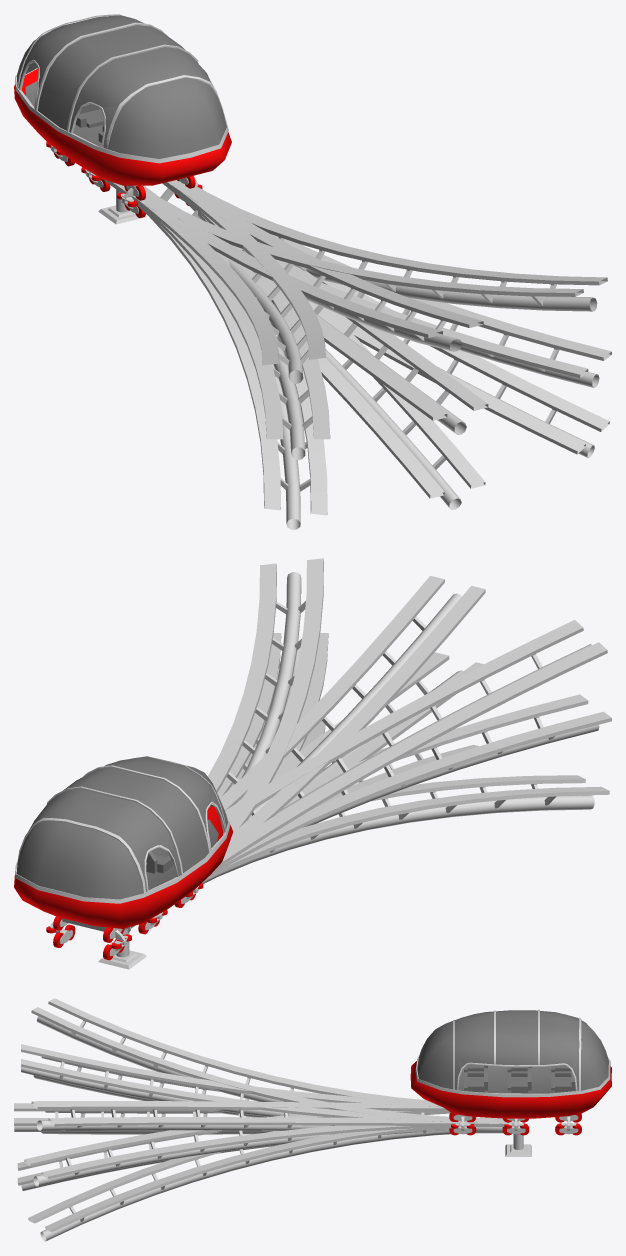
Rendered from rollercoaster3.fbx.
The picture shows the model from 3 angles, top to bottom: view 1: azimuth 30°, elevation 25°; view 2: azimuth 150°, elevation 25°; view 3: azimuth 270°, elevation 25°; orthographic projection. The views are drawn at different scales.
Visible parts, largest first — view 1: Cart, Rail_straight005, Rail_straight004, Rail_straight003, Rail_straight007, Rail_straight008, Rail_straight002, Rail_straight, Rail_straight006, Rail_straight001; view 2: Cart, Rail_straight004, Rail_straight005, Rail_straight003, Rail_straight008, Rail_straight002, Rail_straight001, Rail_straight, Rail_straight007; view 3: Cart, Rail_straight005, Rail_straight004, Rail_straight006, Rail_straight003, Rail_straight001, Rail_straight, Rail_straight007, Rail_straight008, Rail_straight002.
Boxes of the visible parts, x1,y1,x2,y2 form: Cart: [14, 14, 231, 217]; Rail_straight005: [143, 181, 607, 311]; Rail_straight004: [133, 183, 325, 383]; Rail_straight003: [105, 180, 483, 351]; Rail_straight007: [103, 179, 485, 509]; Rail_straight008: [138, 191, 327, 529]; Rail_straight002: [138, 190, 330, 459]; Rail_straight: [103, 179, 488, 434]; Rail_straight006: [322, 280, 609, 458]; Rail_straight001: [232, 234, 611, 387]; Cart: [14, 756, 233, 960]; Rail_straight004: [214, 620, 607, 870]; Rail_straight005: [208, 558, 323, 834]; Rail_straight003: [130, 576, 485, 928]; Rail_straight008: [202, 775, 609, 883]; Rail_straight002: [208, 694, 611, 877]; Rail_straight001: [217, 633, 328, 820]; Rail_straight: [124, 652, 483, 932]; Rail_straight007: [128, 744, 478, 932]; Cart: [410, 1009, 611, 1135]; Rail_straight005: [31, 1101, 476, 1130]; Rail_straight004: [31, 998, 519, 1131]; Rail_straight006: [28, 1112, 459, 1241]; Rail_straight003: [21, 1044, 518, 1123]; Rail_straight001: [24, 1110, 459, 1186]; Rail_straight: [14, 1103, 331, 1131]; Rail_straight007: [17, 1132, 332, 1190]; Rail_straight008: [41, 1111, 519, 1134]; Rail_straight002: [33, 1056, 502, 1131].
Size of the model in its own units: 364 by 229 by 731.
